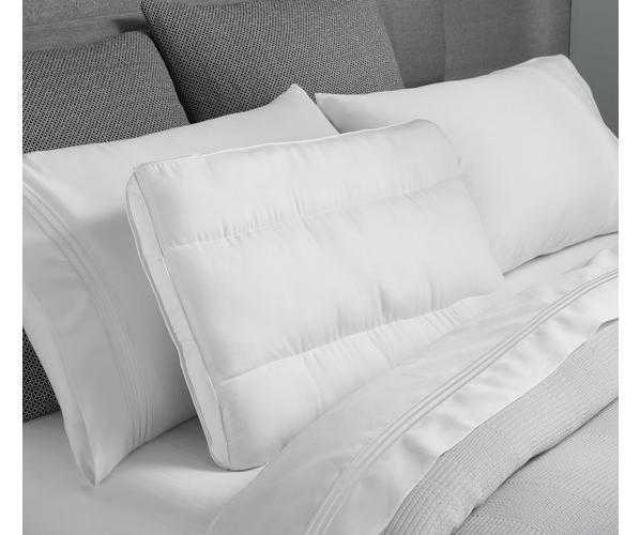pillow: (122, 116, 506, 470), (22, 82, 340, 486), (314, 51, 618, 274)
